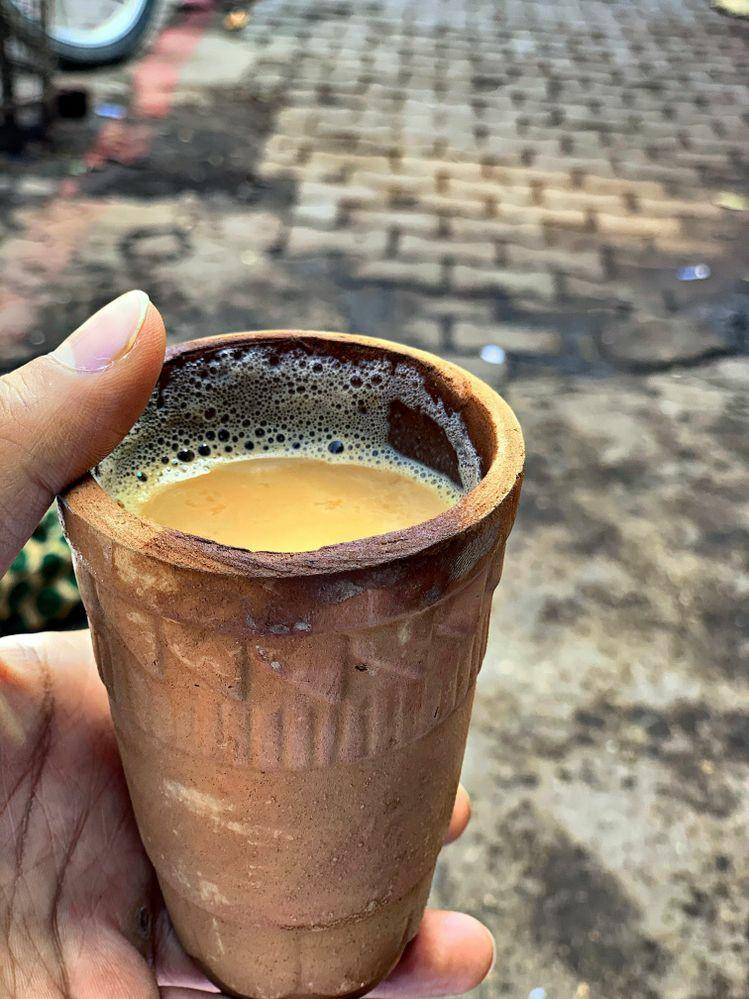Chai: (121, 448, 469, 548)
